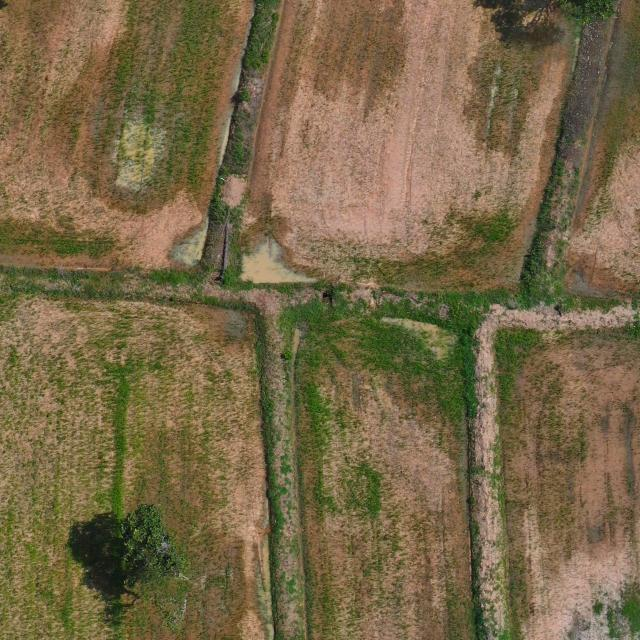Tree: (110, 501, 191, 597)
